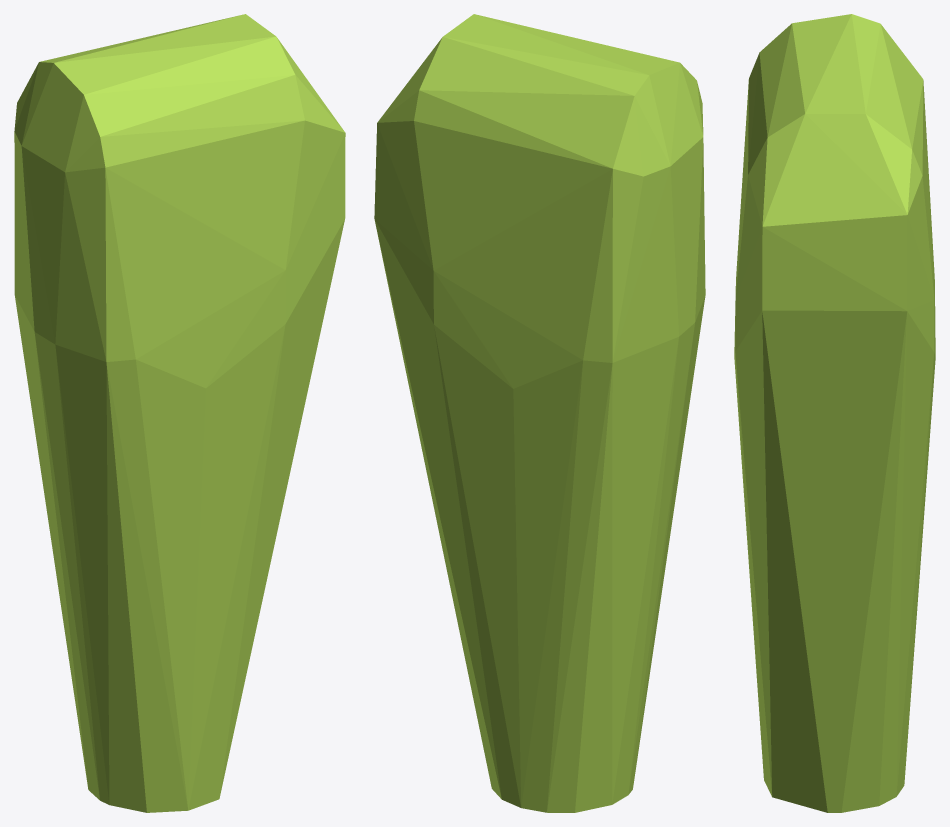
File: niryo_one_Link_4_coll_1.dae
The picture shows the model from 3 angles, left to right: view 1: azimuth 30°, elevation 25°; view 2: azimuth 150°, elevation 25°; view 3: azimuth 270°, elevation 25°; orthographic projection. The views are drawn at different scales.
Parts seen in each view (by area): view 1: Node_00000276BF53B0A0; view 2: Node_00000276BF53B0A0; view 3: Node_00000276BF53B0A0.
Part boxes in pixels (x1,y1,x2,y2): Node_00000276BF53B0A0: [14, 14, 345, 812]; Node_00000276BF53B0A0: [374, 14, 705, 812]; Node_00000276BF53B0A0: [734, 14, 935, 812].
Size of the model in its own units: 0.0768 by 0.1982 by 0.05.
